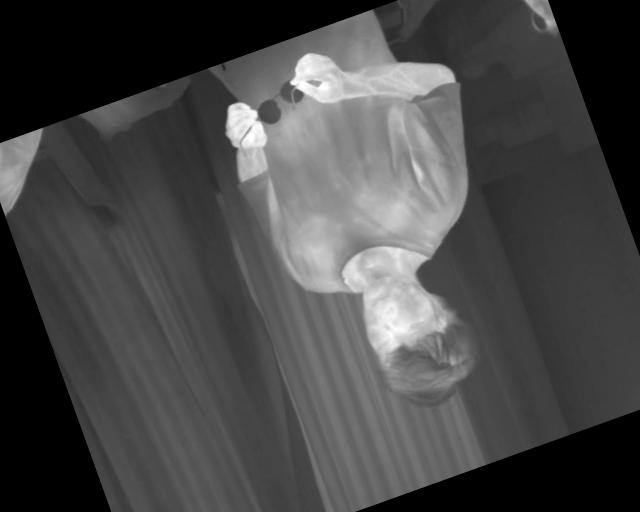face: (346, 252, 493, 422)
